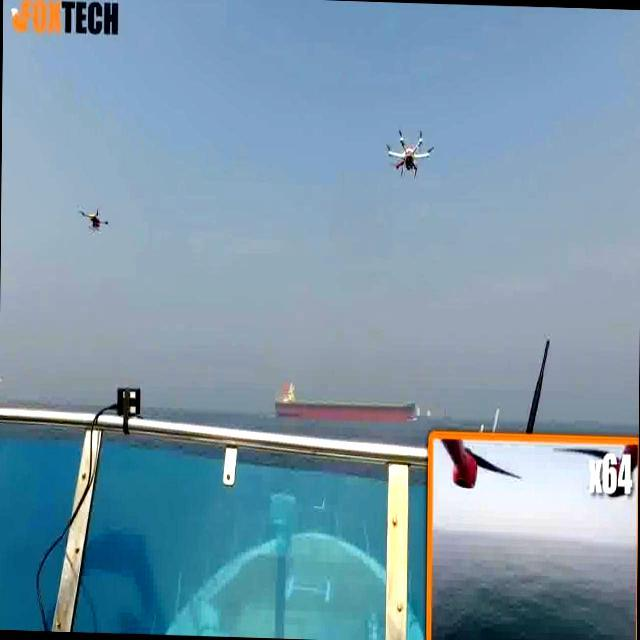drone: (378, 120, 434, 181), (76, 200, 114, 238)
